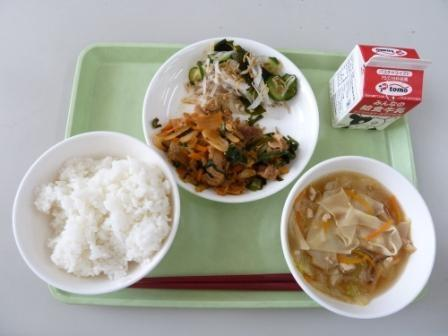Meat: (145, 113, 302, 194)
Milk: (325, 30, 436, 139)
Rice: (34, 134, 173, 290)
Salad: (183, 40, 317, 123)
Soups: (277, 163, 447, 321)
